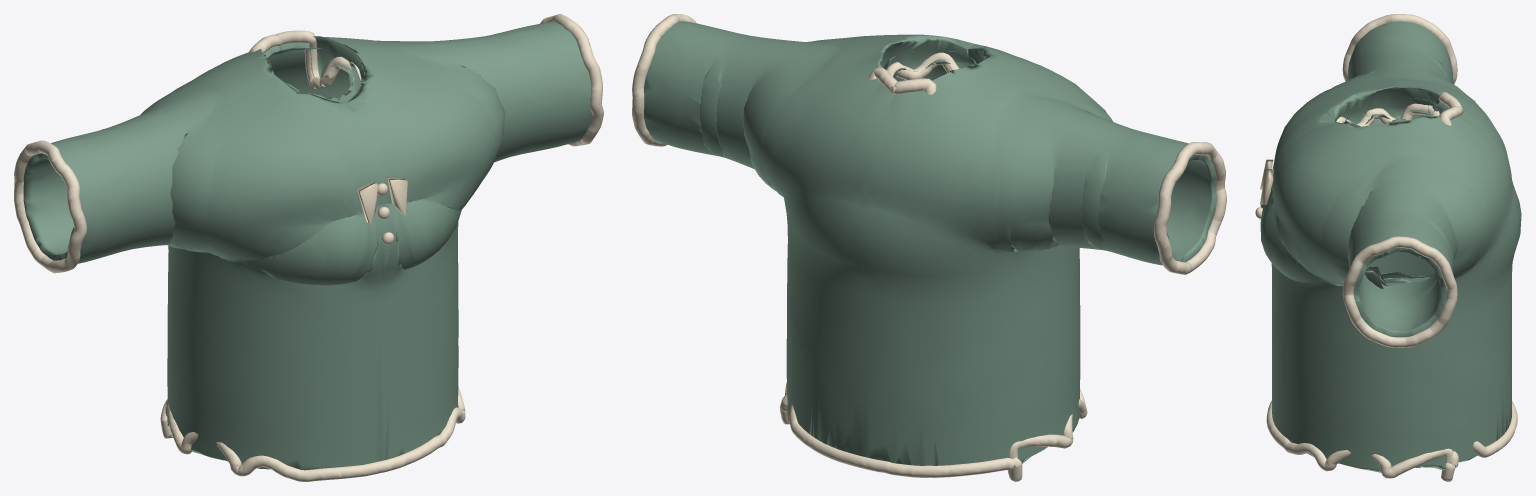
File: 4HT-feminino.glb
The picture shows the model from 3 angles, left to right: view 1: azimuth 30°, elevation 25°; view 2: azimuth 150°, elevation 25°; view 3: azimuth 270°, elevation 25°; orthographic projection. The views are drawn at different scales.
Visible parts, largest first — view 1: fitted-shell, bound-edge (×4); view 2: fitted-shell, bound-edge (×4); view 3: fitted-shell, bound-edge (×4), collar-1.
Part boxes in pixels (x1=…): fitted-shell: x1=23, y1=21, x2=592, y2=470; bound-edge (×4): x1=14, y1=14, x2=603, y2=481; fitted-shell: x1=644, y1=21, x2=1216, y2=465; bound-edge (×4): x1=632, y1=14, x2=1226, y2=481; fitted-shell: x1=1260, y1=21, x2=1521, y2=472; bound-edge (×4): x1=1266, y1=14, x2=1517, y2=481; collar-1: x1=1260, y1=169, x2=1273, y2=204.
Bounding box in the file's own units: 0.0631 × 0.0424 × 0.0309.
